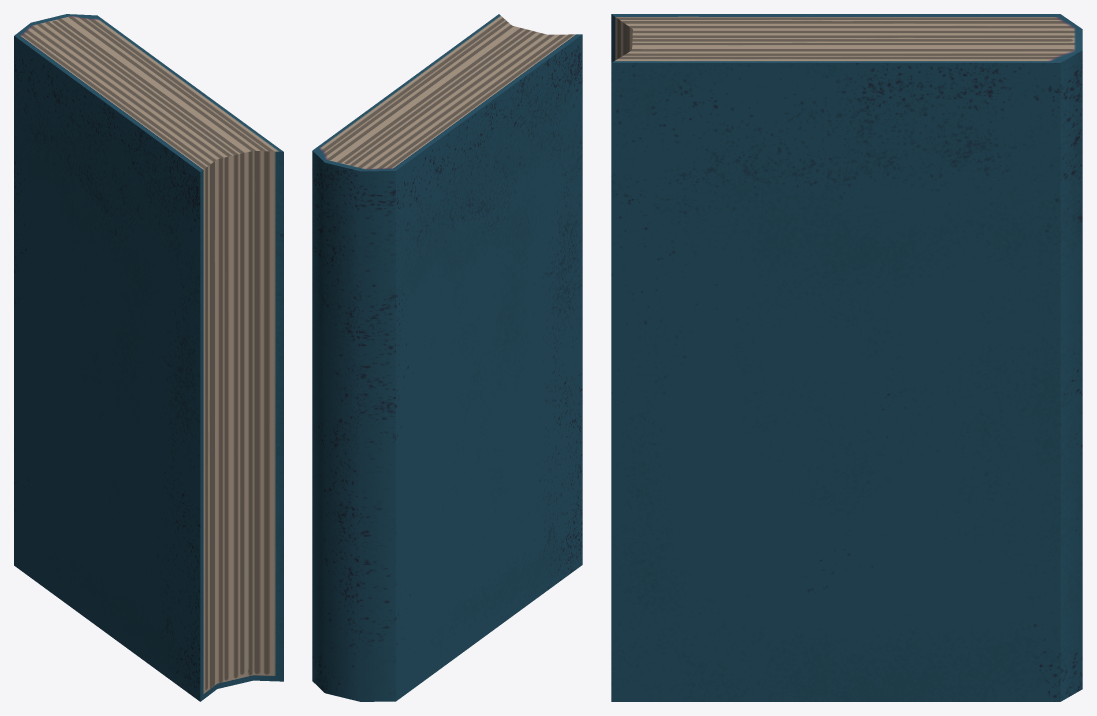
Rendered from BlueBook_exp.fbx.
3 renders of one model, left to right at view 1: azimuth 30°, elevation 25°; view 2: azimuth 150°, elevation 25°; view 3: azimuth 270°, elevation 25°, orthographic. The views are drawn at different scales.
Parts seen in each view (by area): view 1: pCube2; view 2: pCube2; view 3: pCube2.
Part boxes in pixels (<box>): pCube2: <box>14,14,283,701</box>; pCube2: <box>312,14,582,701</box>; pCube2: <box>611,14,1082,701</box>.
Size of the model in its own units: 0.3412 by 2.07 by 1.38.
1 material, 1 textured.
